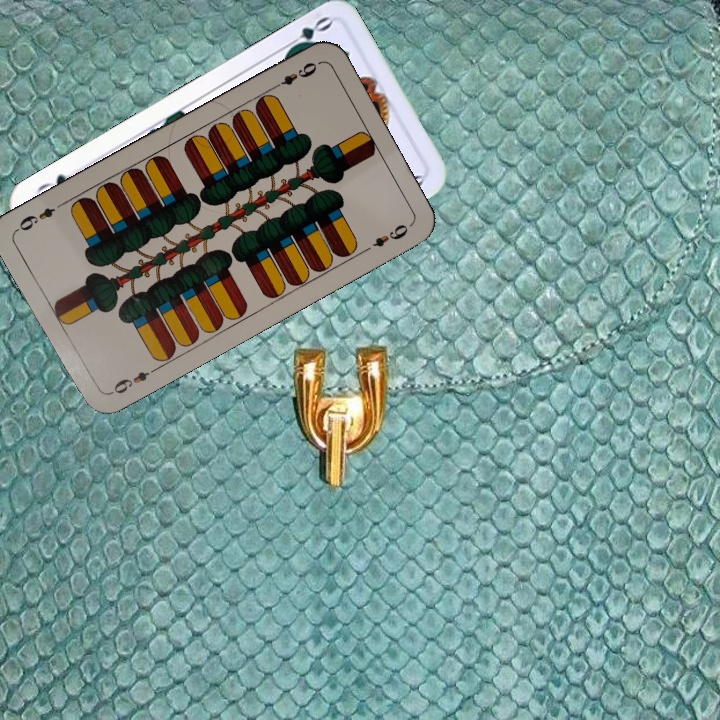E9: (105, 363, 160, 398), (267, 58, 320, 92)
GO: (279, 12, 335, 55)
